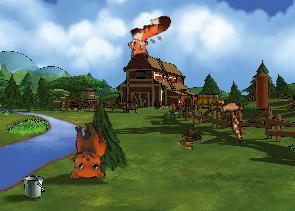bear: (60, 119, 112, 184)
eagle: (203, 86, 262, 143)
fox: (119, 12, 180, 64)
